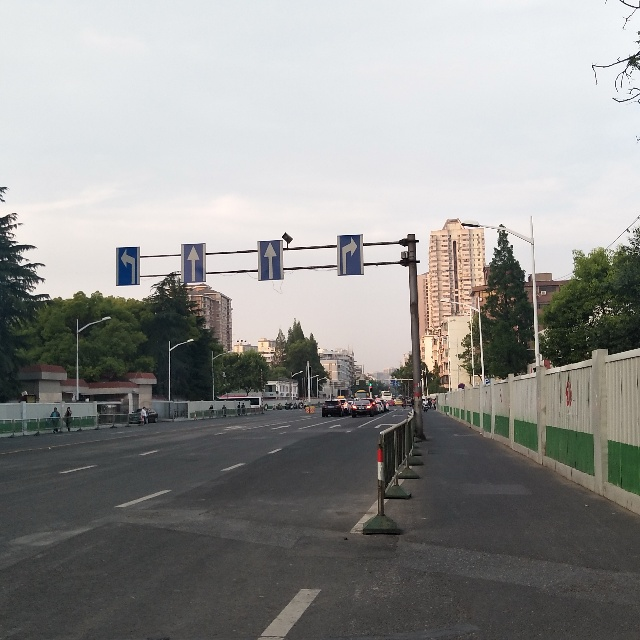left: (118, 247, 138, 284)
right: (339, 235, 360, 275)
straight: (183, 244, 204, 282), (261, 241, 280, 280)
